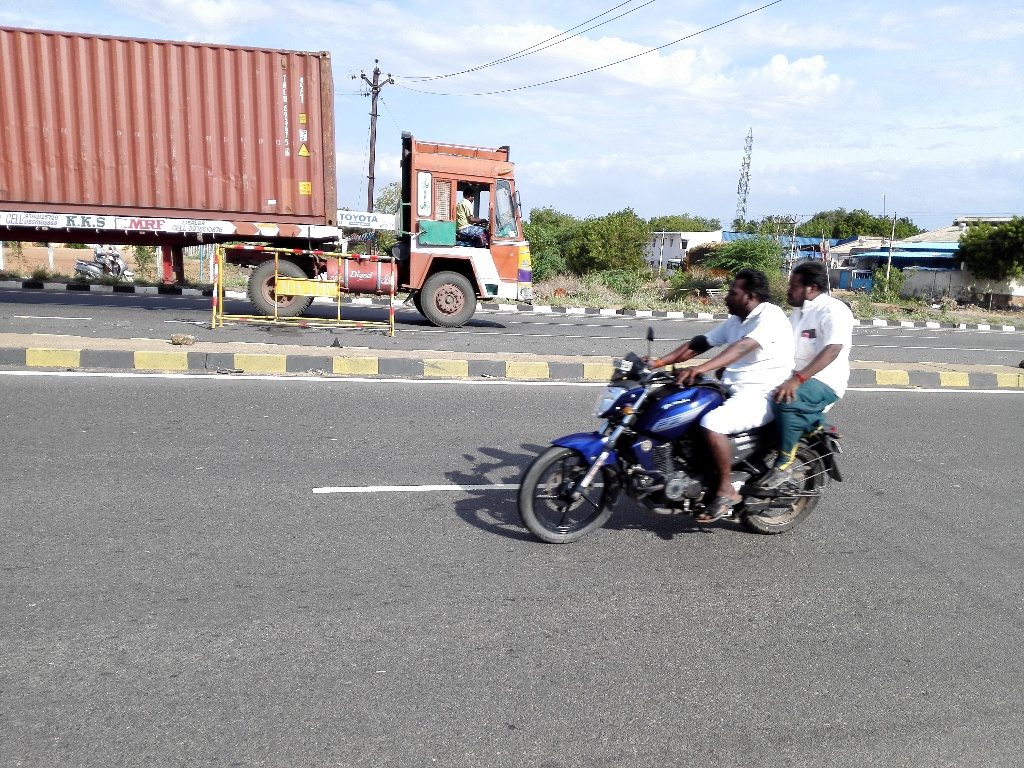biker: (499, 209, 883, 553)
nohelmet: (780, 246, 847, 313), (714, 255, 781, 322)
